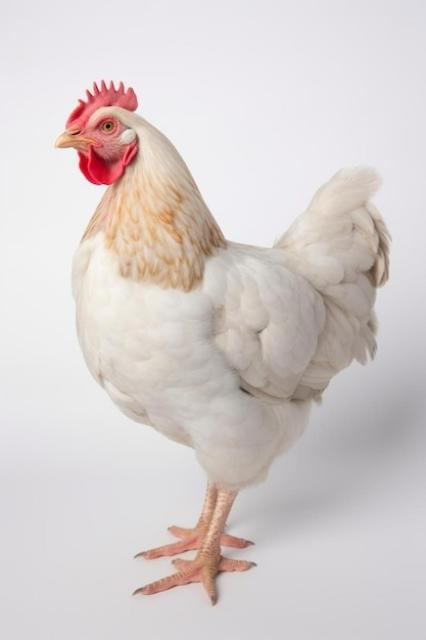Chicken: (50, 79, 390, 605)
